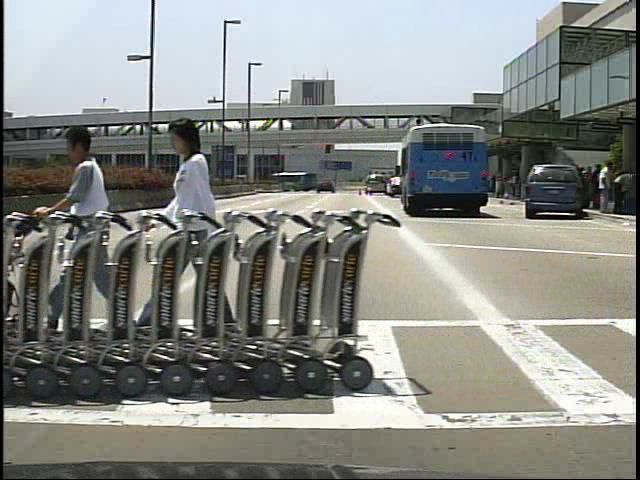person: (156, 111, 243, 350), (51, 121, 127, 339), (597, 160, 618, 216), (589, 163, 604, 214)
